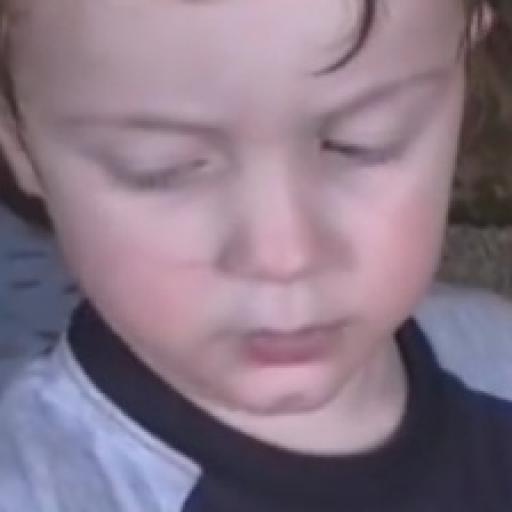Autism: (9, 0, 498, 438)
